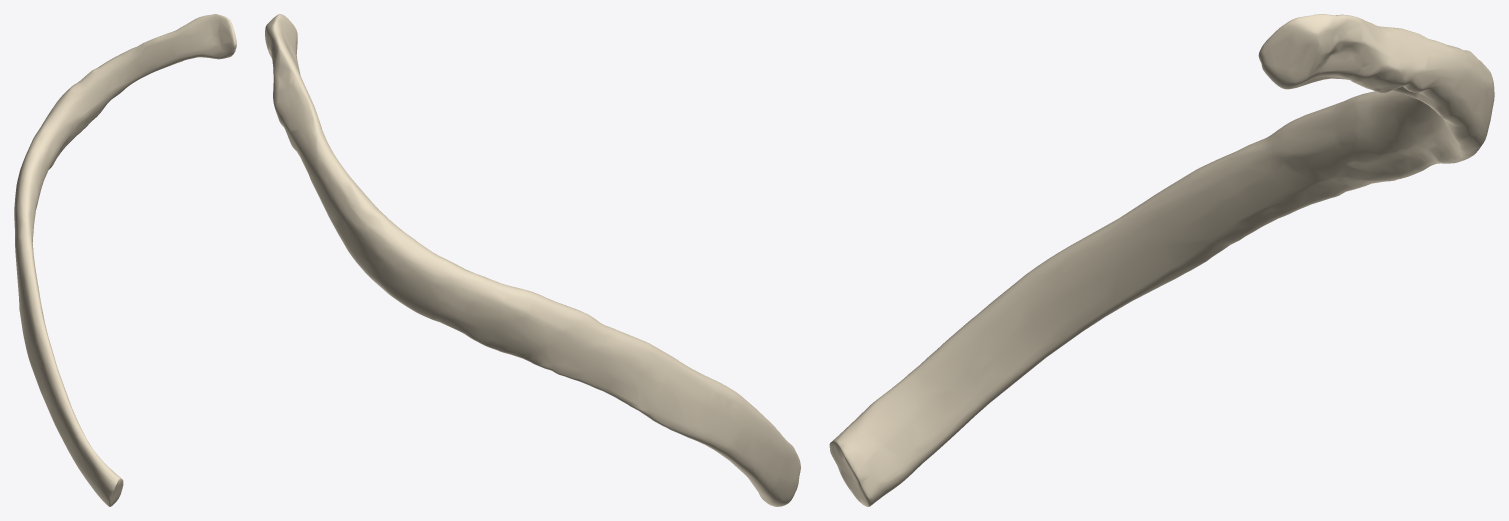
Rendered from ninth-rib-r.glb.
The picture shows the model from 3 angles, left to right: view 1: azimuth 30°, elevation 25°; view 2: azimuth 150°, elevation 25°; view 3: azimuth 270°, elevation 25°; orthographic projection. The views are drawn at different scales.
Parts seen in each view (by area): view 1: Ninth rib.r; view 2: Ninth rib.r; view 3: Ninth rib.r.
Part boxes in pixels (box(x1,y1,x2,y2)): Ninth rib.r: box(14, 14, 236, 506); Ninth rib.r: box(265, 14, 800, 506); Ninth rib.r: box(829, 14, 1494, 506).
Bounding box in the file's own units: 0.1152 × 0.1551 × 0.1324.
